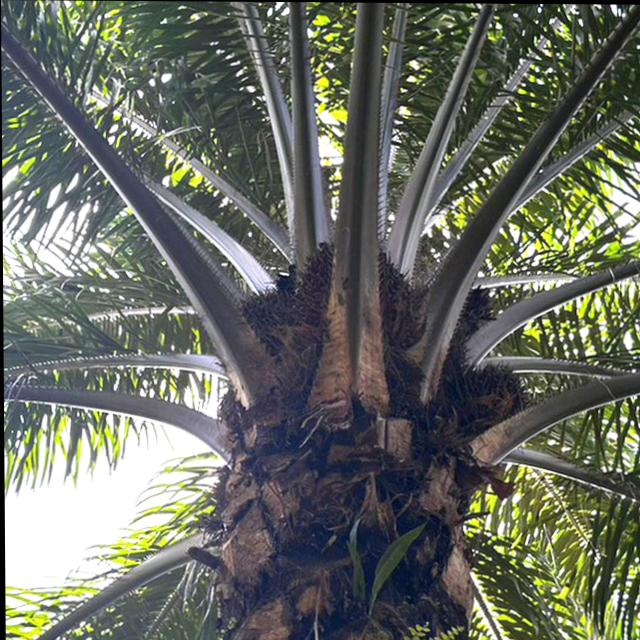ripe: (283, 230, 416, 352)
